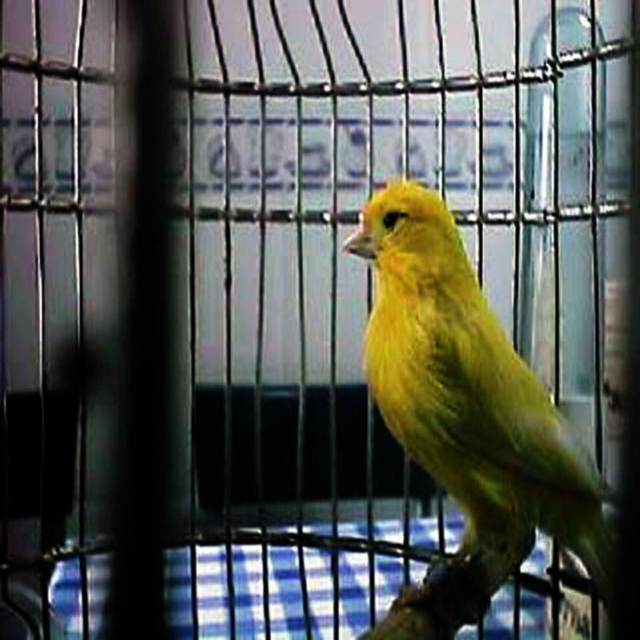Canary: (338, 173, 621, 637)
